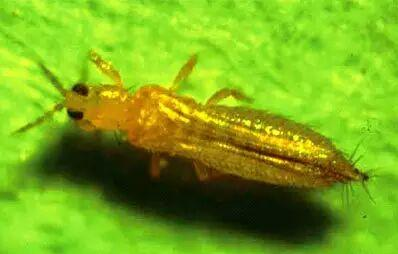Thripidae: (4, 51, 383, 197)
